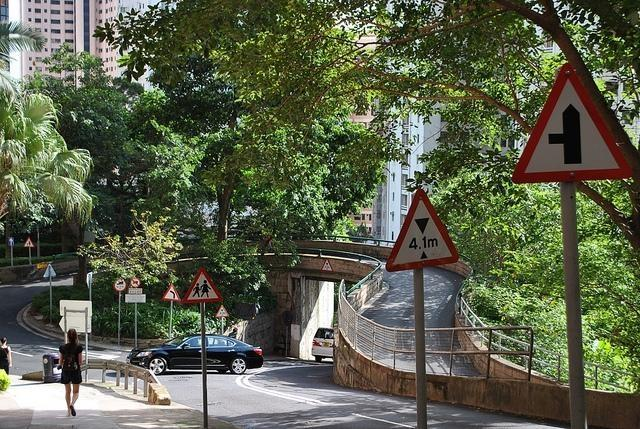car: (126, 333, 264, 374), (312, 327, 334, 362)
